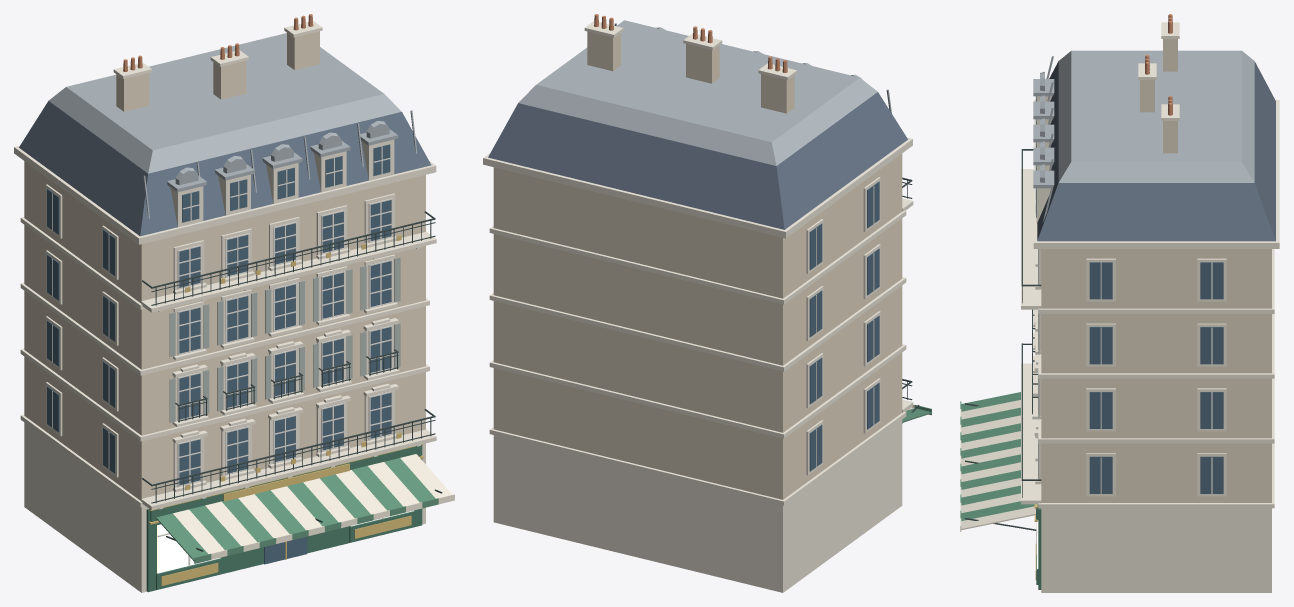
The model's file is Haussmann_CafeHome.fbx.
3 views of the same model, side by side, from view 1: azimuth 30°, elevation 25°; view 2: azimuth 150°, elevation 25°; view 3: azimuth 270°, elevation 25° (orthographic). The views are drawn at different scales.
Parts seen in each view (by area): view 1: Haussmann_CafeHome; view 2: Haussmann_CafeHome; view 3: Haussmann_CafeHome.
Part boxes in pixels (x1=…): Haussmann_CafeHome: x1=14, y1=14, x2=454, y2=592; Haussmann_CafeHome: x1=483, y1=14, x2=931, y2=592; Haussmann_CafeHome: x1=960, y1=14, x2=1279, y2=592.
Bounding box in the file's own units: 14.65 × 22.25 × 13.82.
